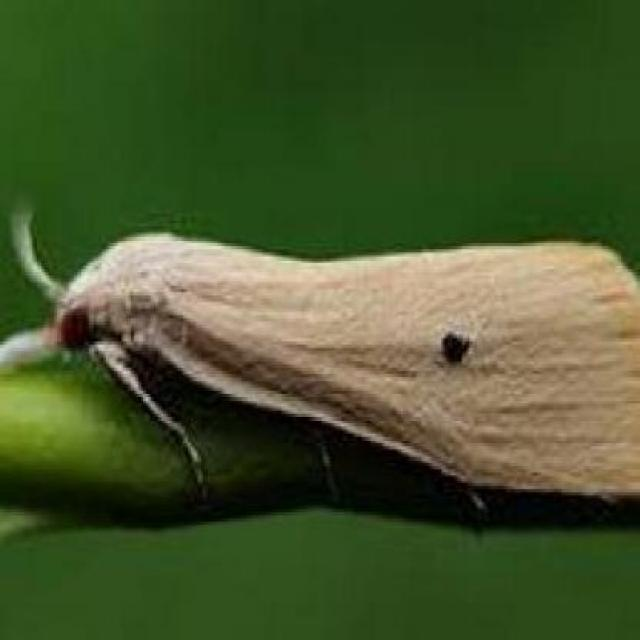stem-borer: (0, 203, 640, 520)
